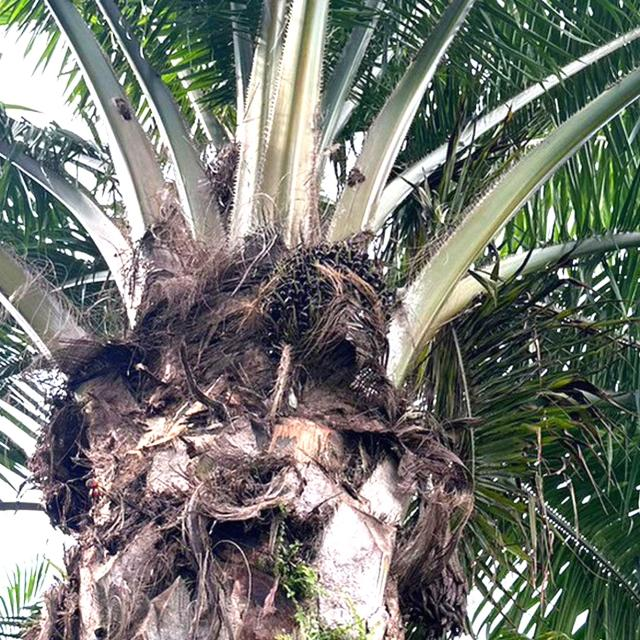unripe: (257, 230, 401, 380)
